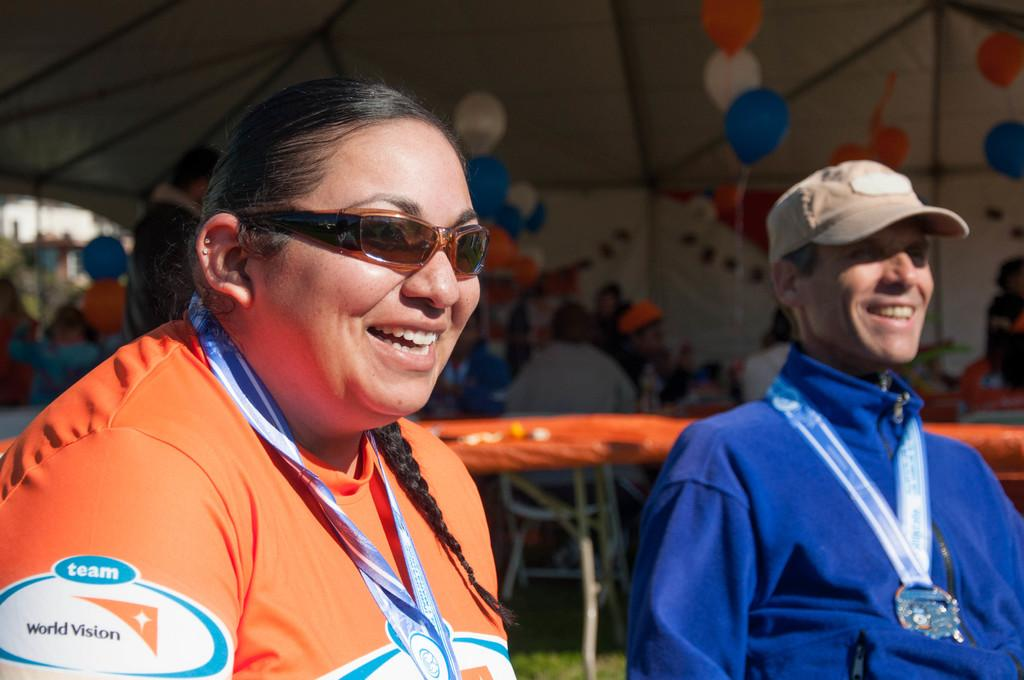Hat: (766, 155, 966, 263)
